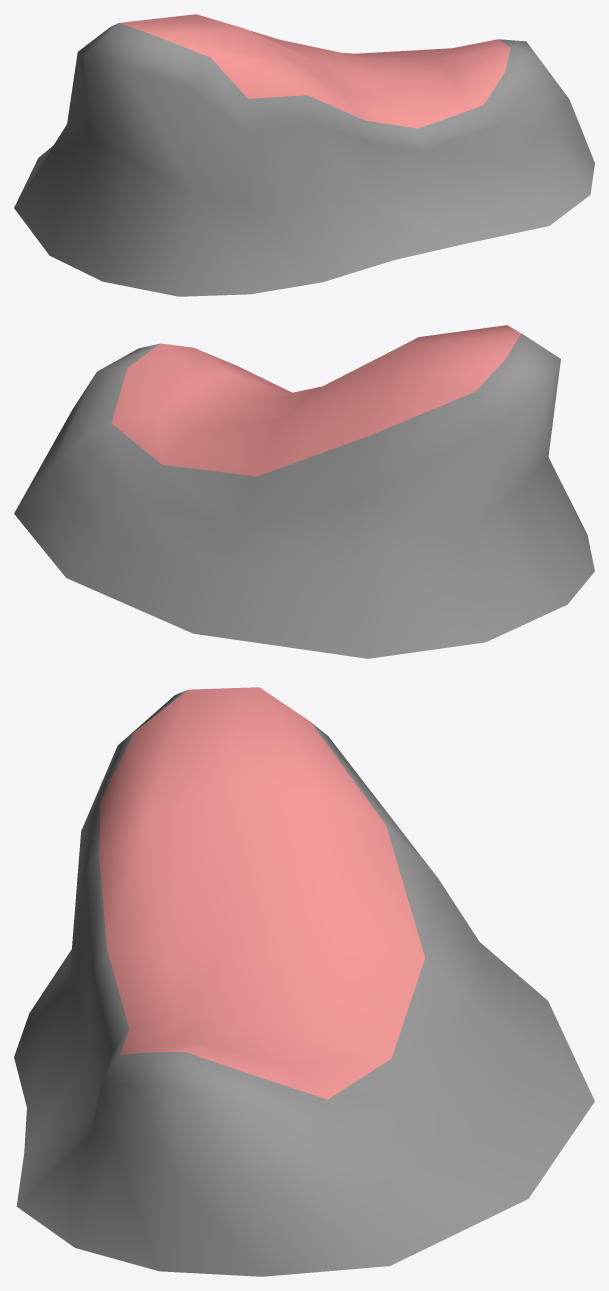
The model's file is PriPlain_stone04.gltf.
3 renders of one model, top to bottom at view 1: azimuth 30°, elevation 25°; view 2: azimuth 150°, elevation 25°; view 3: azimuth 270°, elevation 25°, orthographic. The views are drawn at different scales.
Visible parts, largest first — view 1: PriPlain_stone04; view 2: PriPlain_stone04; view 3: PriPlain_stone04.
Boxes of the visible parts, x1,y1,x2,y2 form: PriPlain_stone04: [14, 14, 594, 296]; PriPlain_stone04: [14, 325, 594, 658]; PriPlain_stone04: [14, 687, 594, 1276].
Size of the model in its own units: 2.42 by 1.01 by 1.77.
